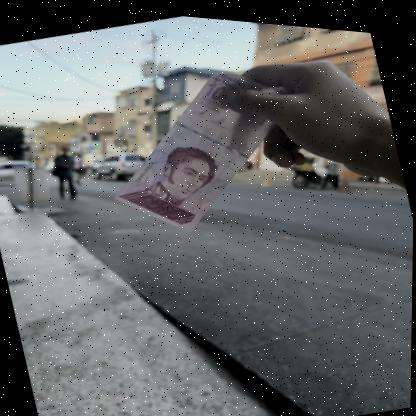one_hundred-front-vef: (87, 45, 313, 254)
